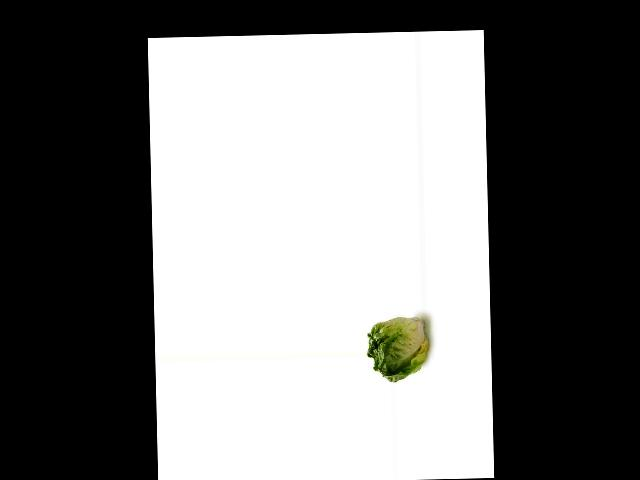lettuce: (364, 312, 428, 386)
